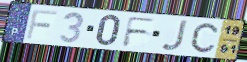0: (94, 14, 123, 47)
3: (58, 10, 86, 44)
C: (190, 22, 220, 54)
F: (121, 16, 158, 48), (24, 8, 59, 41)
J: (160, 19, 190, 52)
